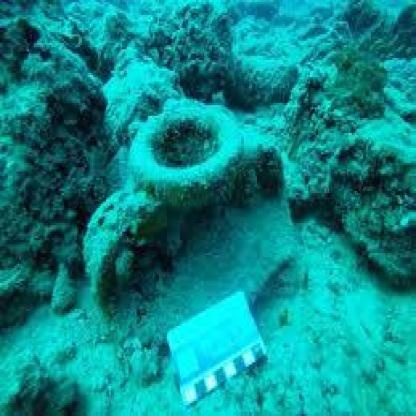tire: (132, 88, 260, 206)
